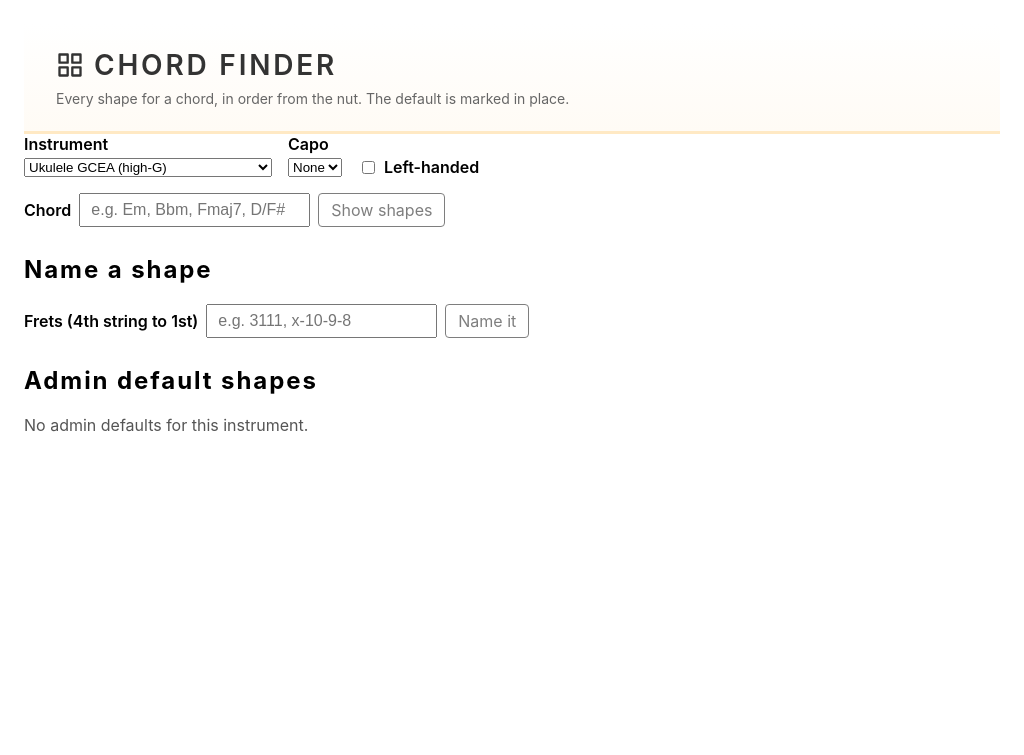
Test: ChordFinder › with a capo, defaults can't be changed and a note says why
Select "2" in the dropdown labelled "Capo" at point(315, 168), box [288,158,342,177]
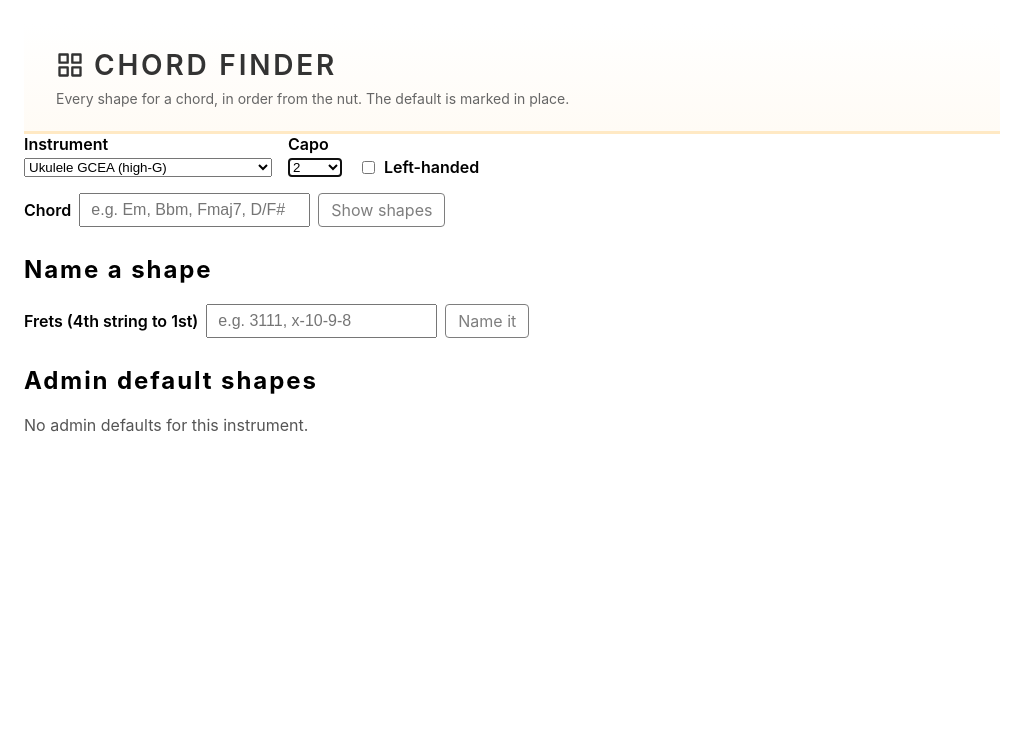
Type "Em" into the field labelled "Chord" at point(195, 210), box [79,193,310,227]
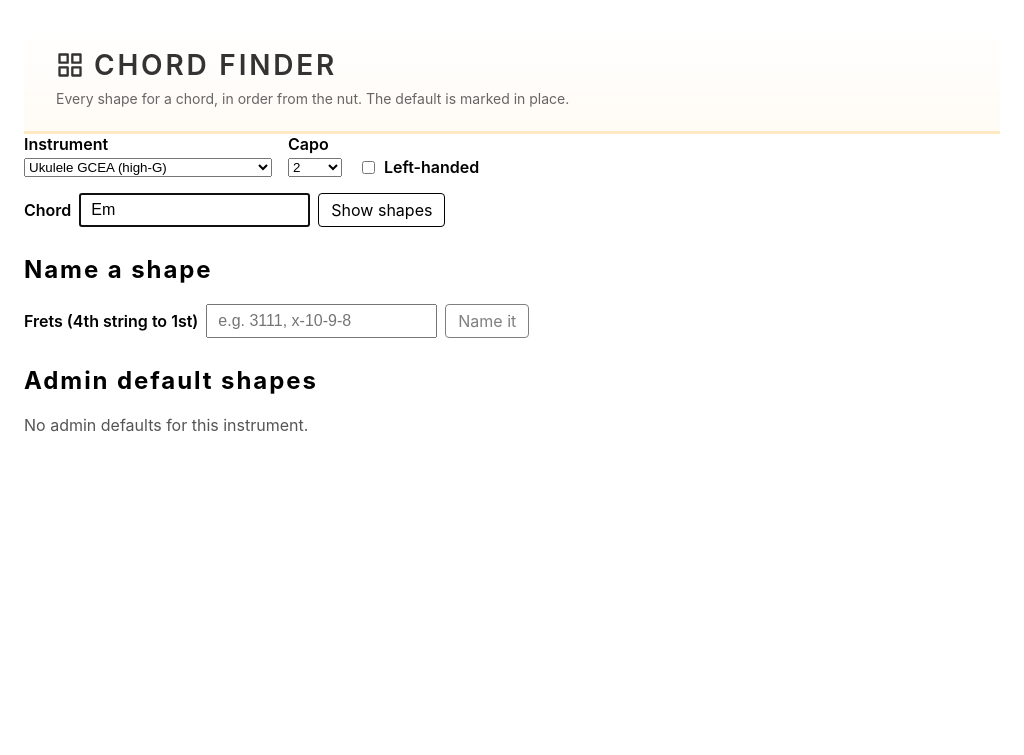
Click the button "Show shapes" at point(382, 210), box [318,193,445,227]
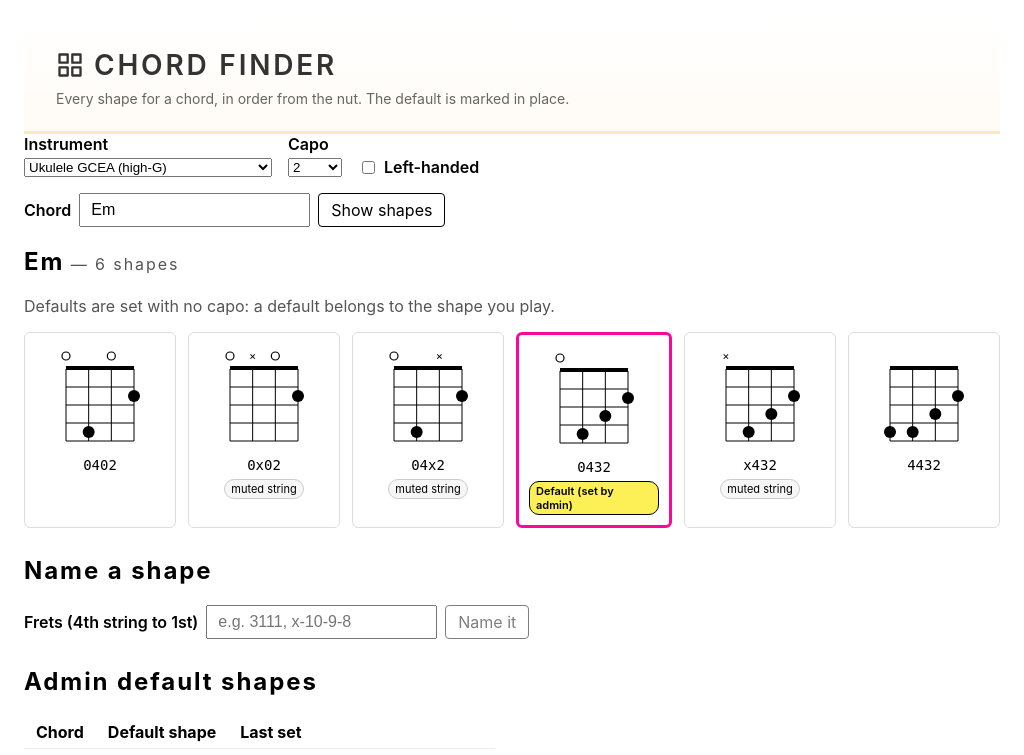
Expected: the text "Defaults are set with no capo" is shown, [24,296,555,316]
